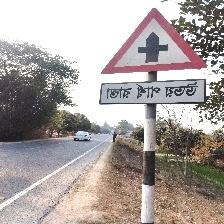Crossroad: (96, 6, 207, 107)
